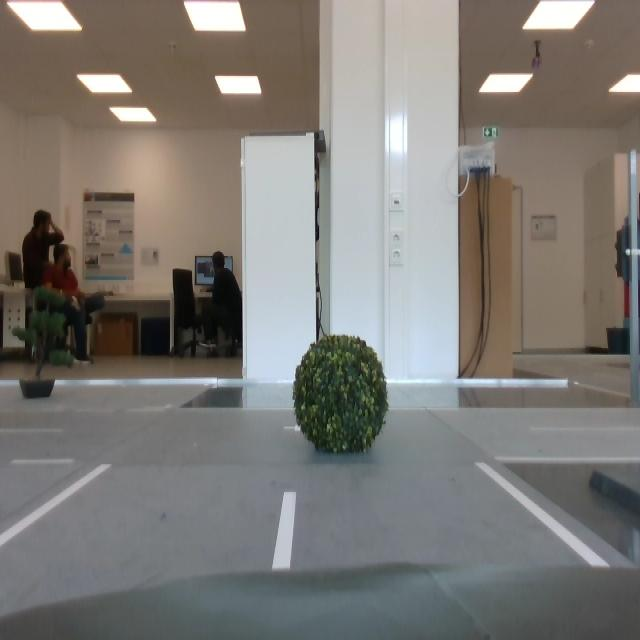potted plant: (292, 333, 389, 454), (12, 285, 76, 398)
traffic light: (615, 218, 631, 283)
